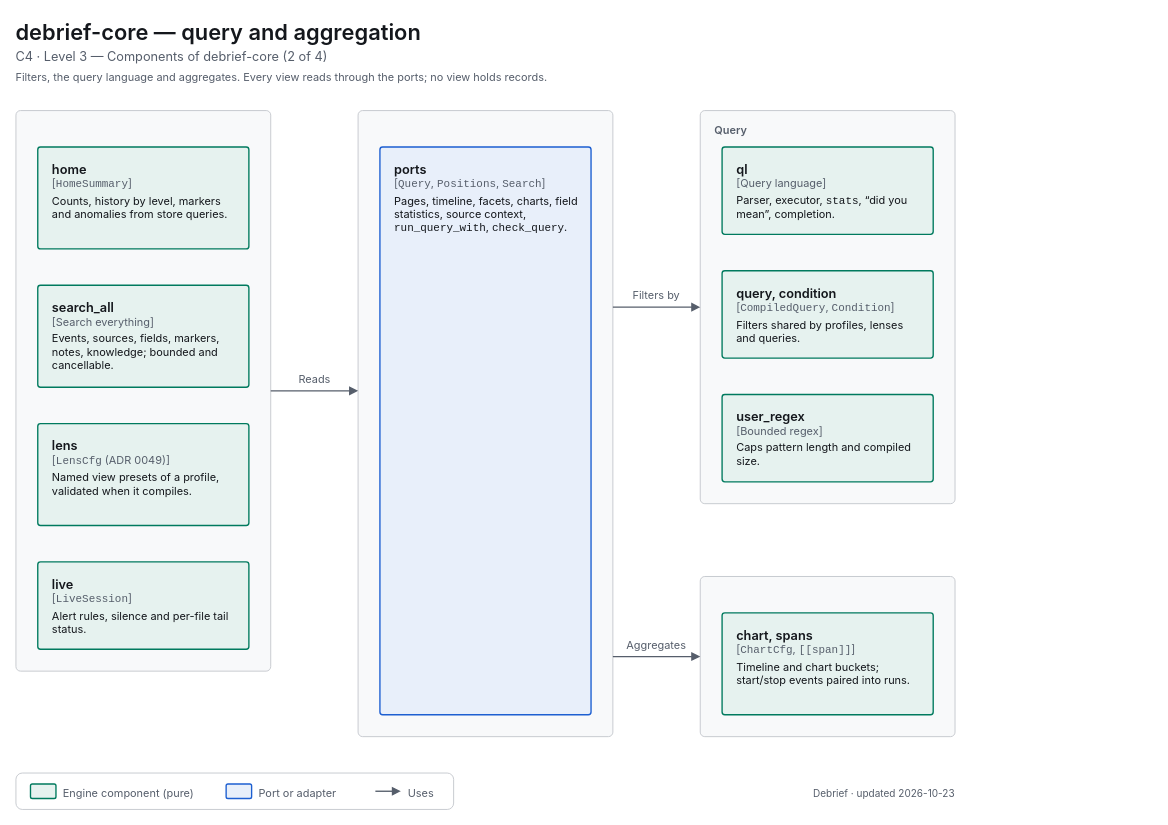
Image size: 1168x825. Some labels were removed from this diagram. Each missing label, with the box of its shape:
Aggregate: (699, 576, 955, 737)
Store ports (read): (357, 110, 613, 737)
Views over the ports: (15, 110, 271, 671)
